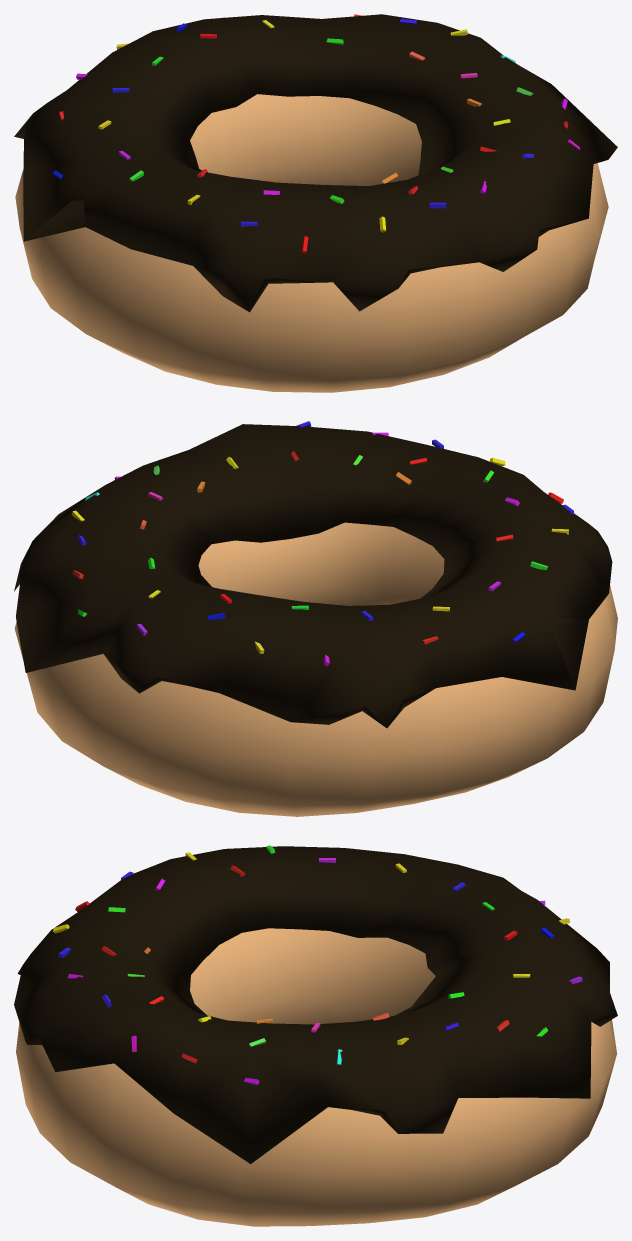
File: Lowpoly-Donut-Choc.fbx
3 renders of one model, top to bottom at view 1: azimuth 30°, elevation 25°; view 2: azimuth 150°, elevation 25°; view 3: azimuth 270°, elevation 25°, orthographic. The views are drawn at different scales.
Visible parts, largest first — view 1: Icing, Donut; view 2: Icing, Donut; view 3: Icing, Donut.
Boxes of the visible parts, x1=… form: Icing: x1=14, y1=14, x2=617, y2=312; Donut: x1=15, y1=94, x2=608, y2=392; Icing: x1=14, y1=424, x2=612, y2=728; Donut: x1=14, y1=522, x2=617, y2=816; Icing: x1=14, y1=846, x2=617, y2=1163; Donut: x1=16, y1=928, x2=616, y2=1226.
Bounding box in the file's own units: 15.15 × 5.03 × 14.23.
